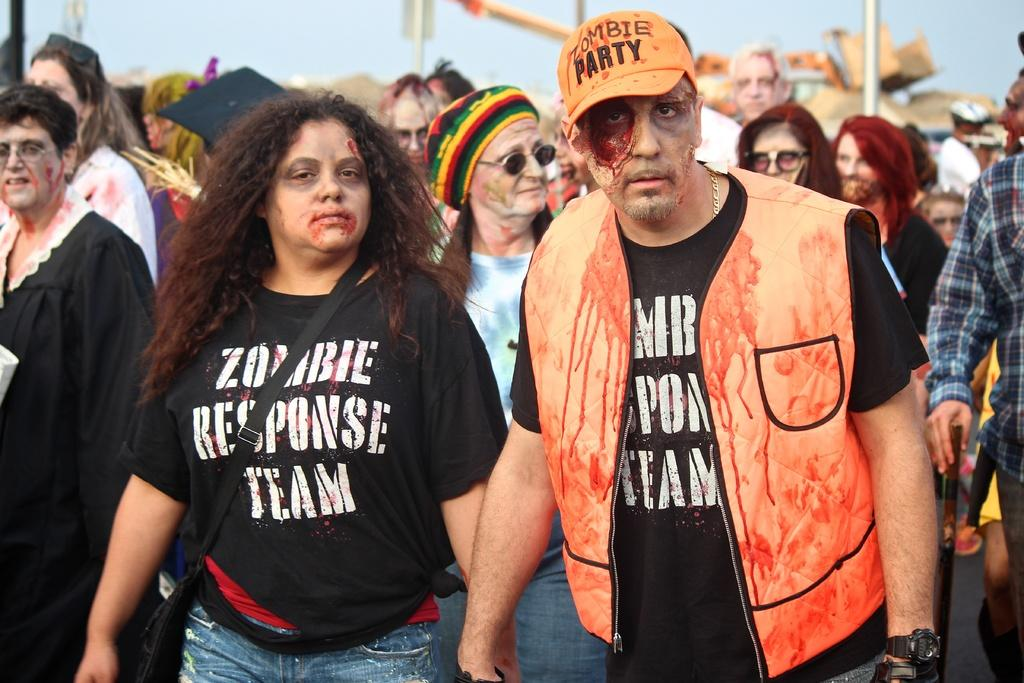Hat: (555, 8, 700, 140)
